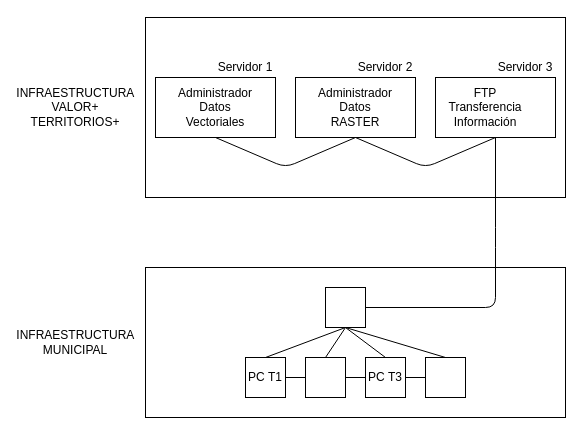
Image size: 583x435. Some labels were removed from this diagram. The centre of each missing label's shape, as x and y in pixels:
PC ASIG: the point at 345,307
PC T2: the point at 325,377
PC T4: the point at 445,377
